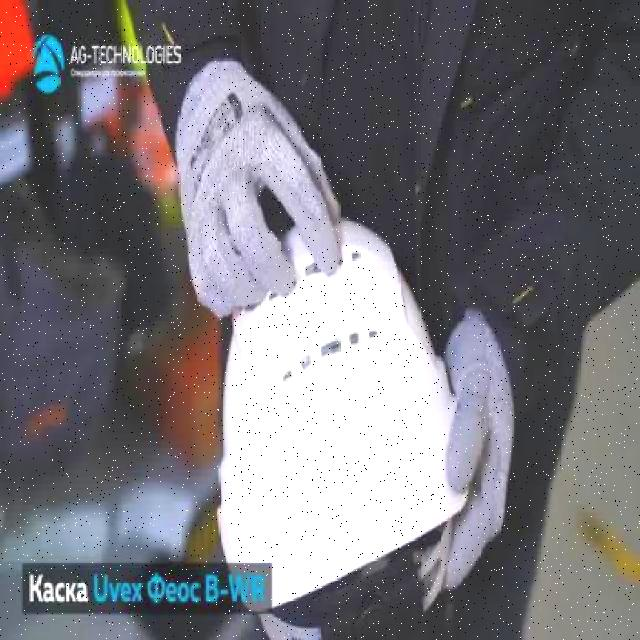Gloves: (172, 52, 343, 323), (414, 302, 518, 598)
Helmet: (215, 212, 470, 612)
